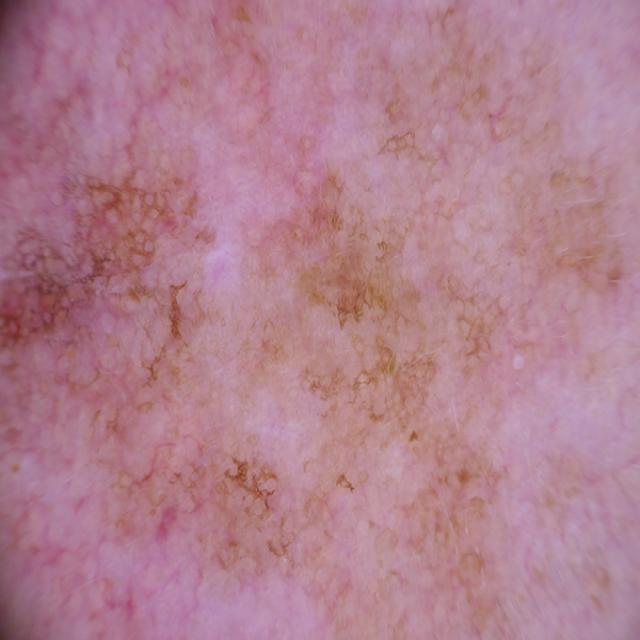Skin-Cancer Pigmented benign keratosis: (4, 0, 640, 640)
